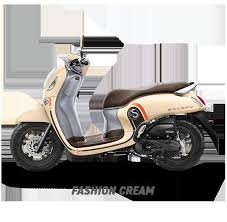motor: (6, 48, 208, 168)
